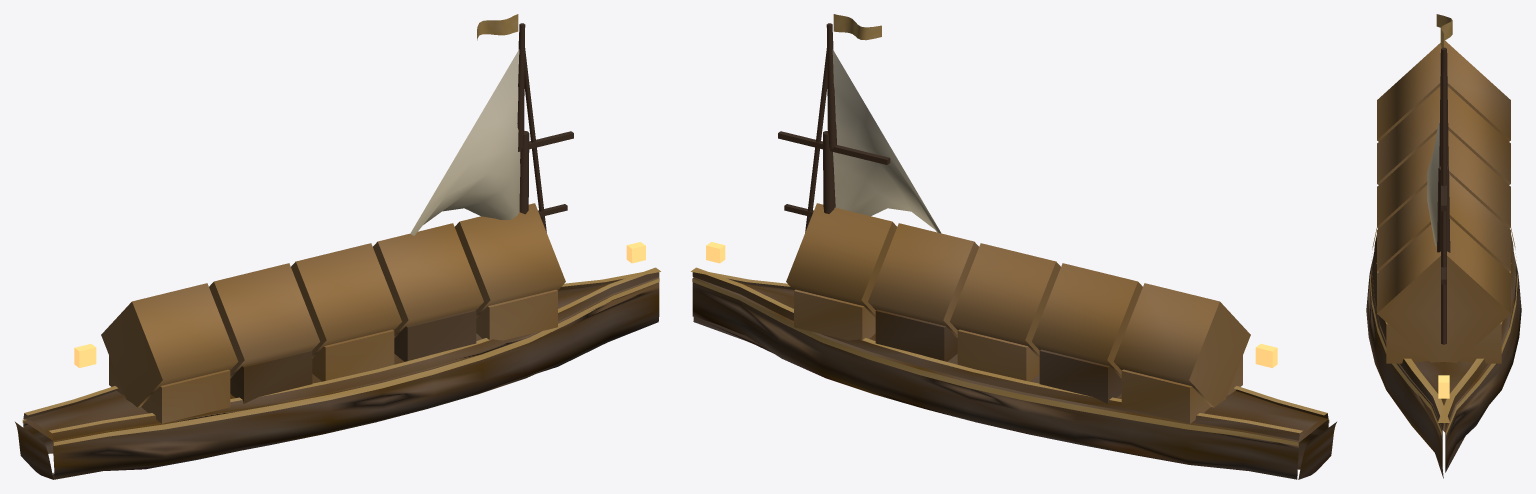
File: garden-hero-paypal.glb
3 views of the same model, side by side, from view 1: azimuth 30°, elevation 25°; view 2: azimuth 150°, elevation 25°; view 3: azimuth 270°, elevation 25° (orthographic). The views are drawn at different scales.
Visible parts, largest first — view 1: wood-hull, sail-hull, trim-hull, spar-hull, glow-hull; view 2: wood-hull, sail-hull, spar-hull, trim-hull, glow-hull; view 3: wood-hull, spar-hull, trim-hull, sail-hull, glow-hull.
Part boxes in pixels (left/top/right/bottom): wood-hull: left=15, top=14, right=660, bottom=479; sail-hull: left=410, top=49, right=520, bottom=235; trim-hull: left=22, top=278, right=659, bottom=445; spar-hull: left=517, top=23, right=573, bottom=232; glow-hull: left=74, top=242, right=645, bottom=367; wood-hull: left=691, top=14, right=1336, bottom=479; sail-hull: left=832, top=49, right=941, bottom=233; spar-hull: left=778, top=23, right=890, bottom=232; trim-hull: left=692, top=278, right=1329, bottom=445; glow-hull: left=706, top=242, right=1277, bottom=367; wood-hull: left=1366, top=14, right=1521, bottom=478; spar-hull: left=1437, top=47, right=1450, bottom=344; trim-hull: left=1370, top=227, right=1517, bottom=435; sail-hull: left=1427, top=120, right=1439, bottom=246; glow-hull: left=1438, top=375, right=1449, bottom=398.
Bounding box in the file's own units: 12.68 × 7.03 × 2.5.
